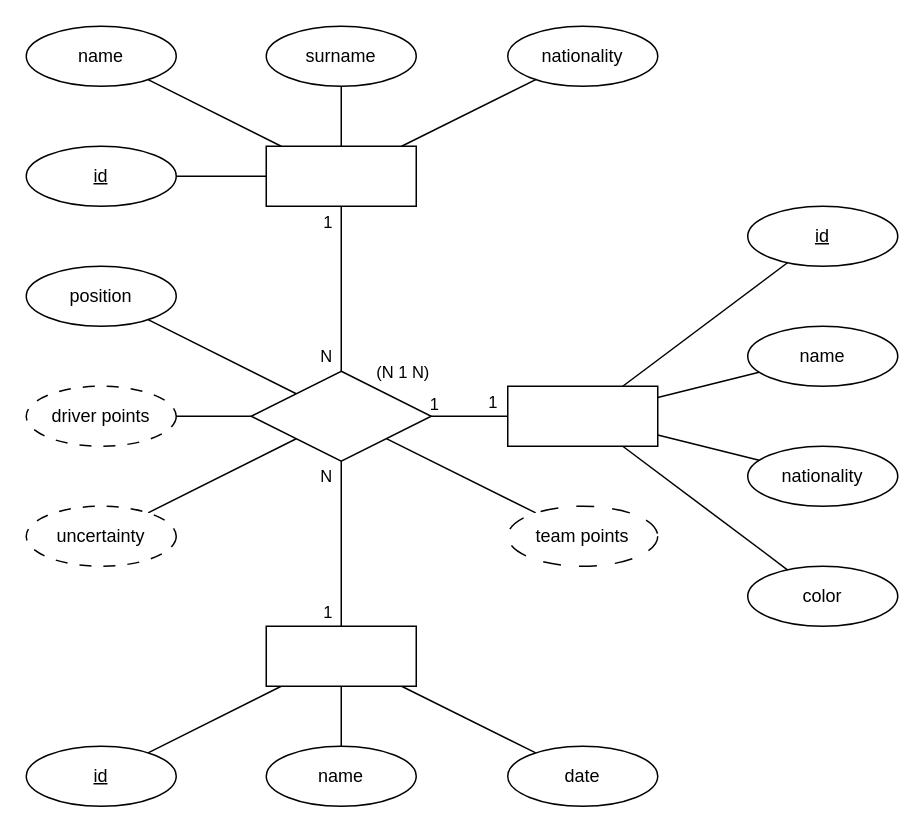
Some shapes in this 924 by 833 pixel diagram are drawn without their labels. The shapes that lost their labels are listed below. From the top down, each one's box as (x1, y1, x2, y2) in pixels, then its label:
(265, 145, 416, 206): DRIVERS
(250, 370, 431, 461): participations
(506, 385, 658, 446): TEAMS
(265, 625, 416, 686): RACES
